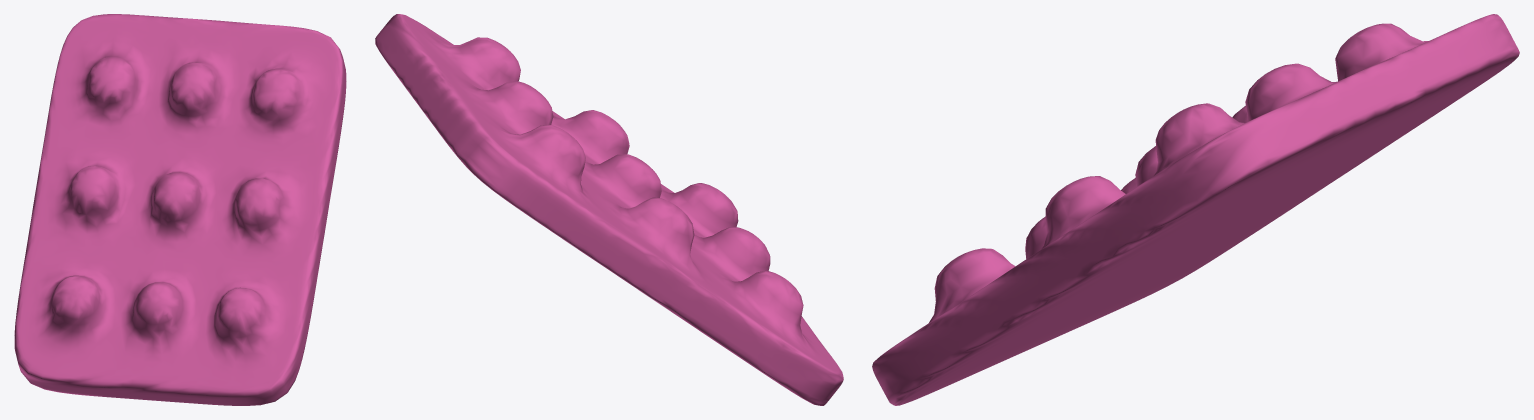
The model's file is Pop-it.glb.
3 renders of one model, left to right at view 1: azimuth 30°, elevation 25°; view 2: azimuth 150°, elevation 25°; view 3: azimuth 270°, elevation 25°, orthographic. The views are drawn at different scales.
Visible parts, largest first — view 1: Pop-it.001; view 2: Pop-it.001; view 3: Pop-it.001.
Part boxes in pixels (<box>): Pop-it.001: <box>14,14,346,405</box>; Pop-it.001: <box>375,14,843,405</box>; Pop-it.001: <box>872,14,1519,405</box>.
Size of the model in its own units: 3.02 by 2.18 by 3.08.
